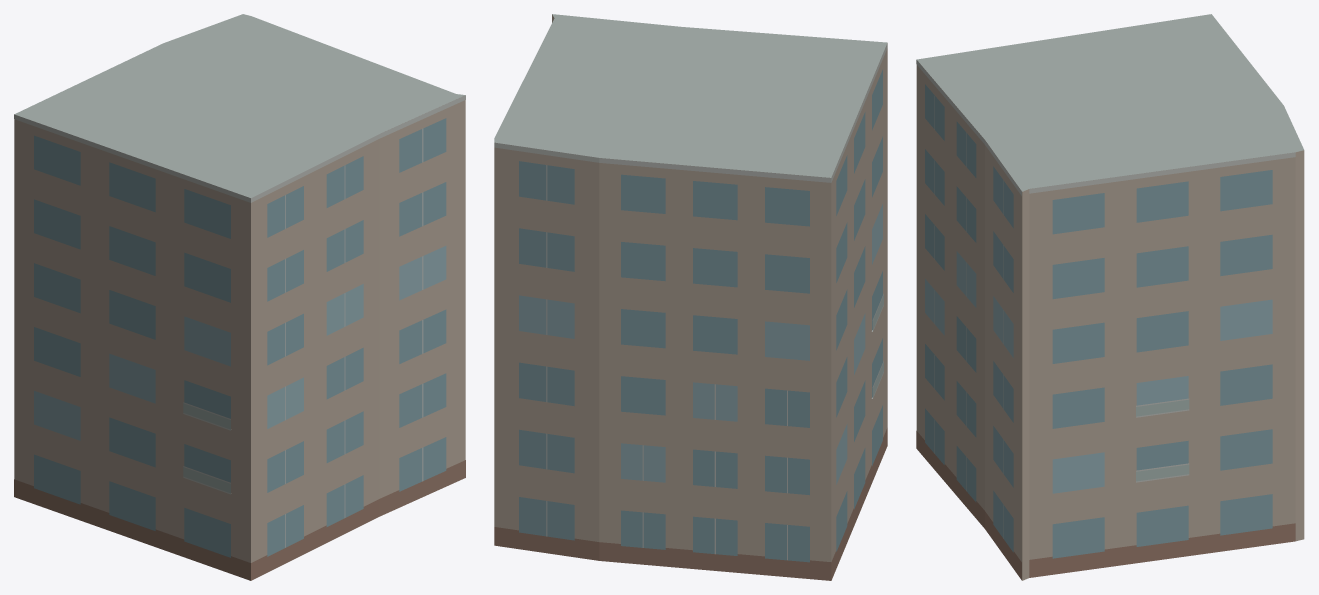
File: survey-upis-33025252.glb
3 views of the same model, side by side, from view 1: azimuth 30°, elevation 25°; view 2: azimuth 150°, elevation 25°; view 3: azimuth 270°, elevation 25° (orthographic). The views are drawn at different scales.
Parts seen in each view (by area): view 1: survey-upis-33025252.tmp; view 2: survey-upis-33025252.tmp; view 3: survey-upis-33025252.tmp.
Part boxes in pixels (x1=…): survey-upis-33025252.tmp: x1=14, y1=14, x2=465, y2=580; survey-upis-33025252.tmp: x1=494, y1=14, x2=887, y2=580; survey-upis-33025252.tmp: x1=916, y1=14, x2=1304, y2=580.
Bounding box in the file's own units: 19.32 × 19.7 × 17.81.
